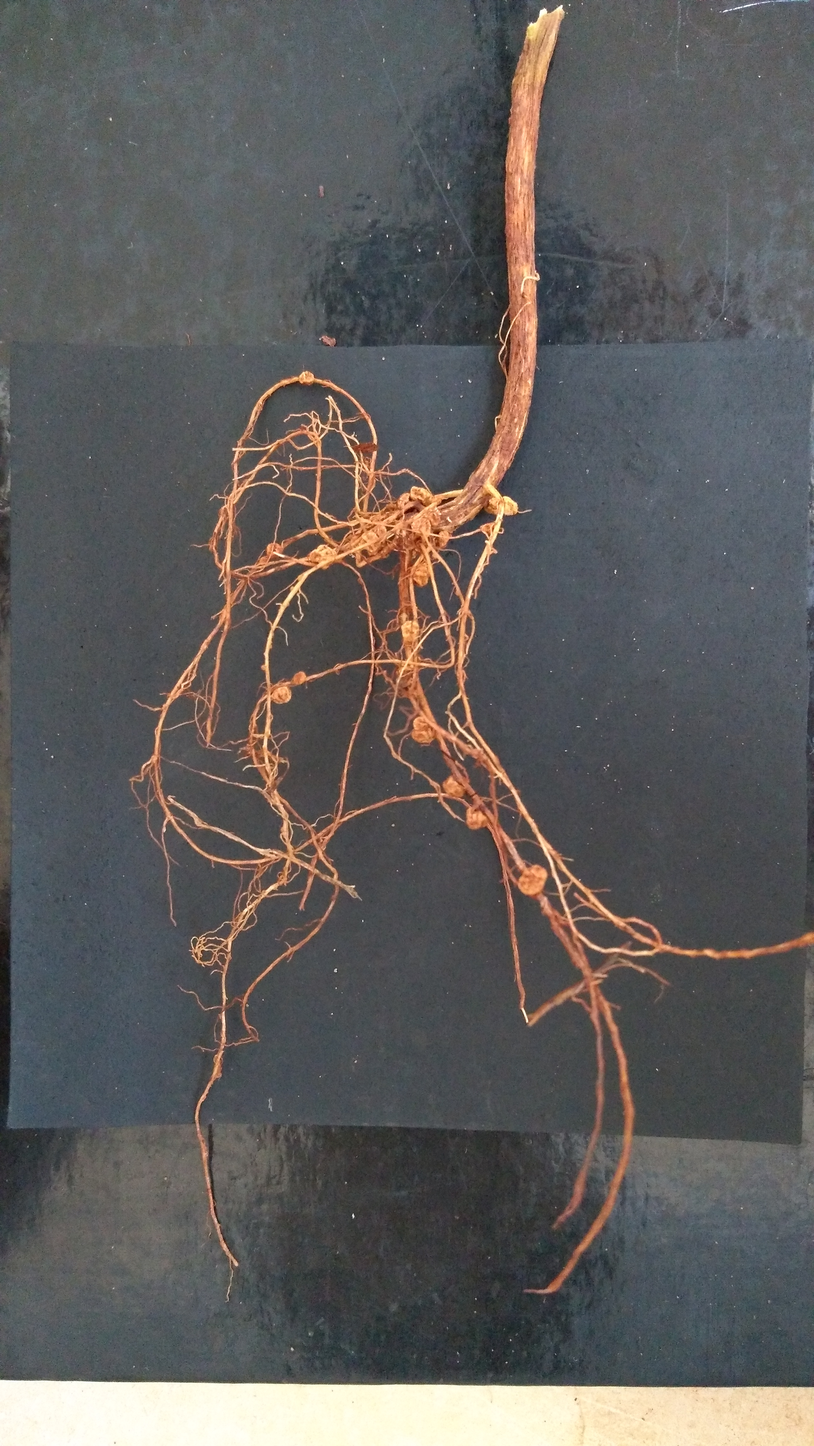nodule: (517, 864, 548, 895), (359, 525, 387, 556), (309, 544, 337, 570), (411, 716, 435, 743), (442, 775, 466, 798), (465, 806, 488, 830), (410, 486, 436, 506), (410, 563, 430, 588), (394, 664, 414, 688), (383, 503, 405, 524), (411, 518, 431, 538), (401, 620, 419, 642), (270, 686, 292, 704), (425, 508, 441, 525), (267, 542, 282, 558), (439, 530, 452, 548), (213, 1055, 223, 1078), (470, 747, 486, 761), (488, 497, 501, 514), (393, 521, 406, 538), (298, 371, 314, 384), (398, 493, 411, 508), (293, 671, 306, 684), (482, 523, 495, 534), (259, 556, 269, 565), (399, 613, 408, 623), (298, 573, 306, 582), (261, 665, 266, 670)
